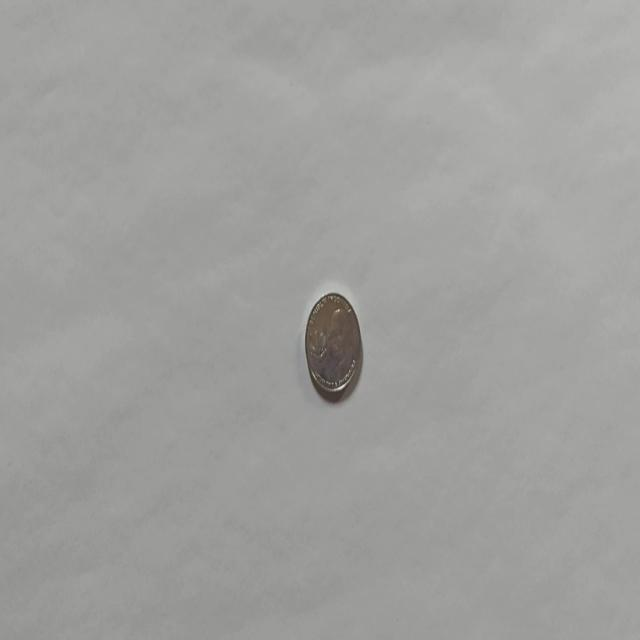lima ratus rupiah: (303, 290, 363, 400)
